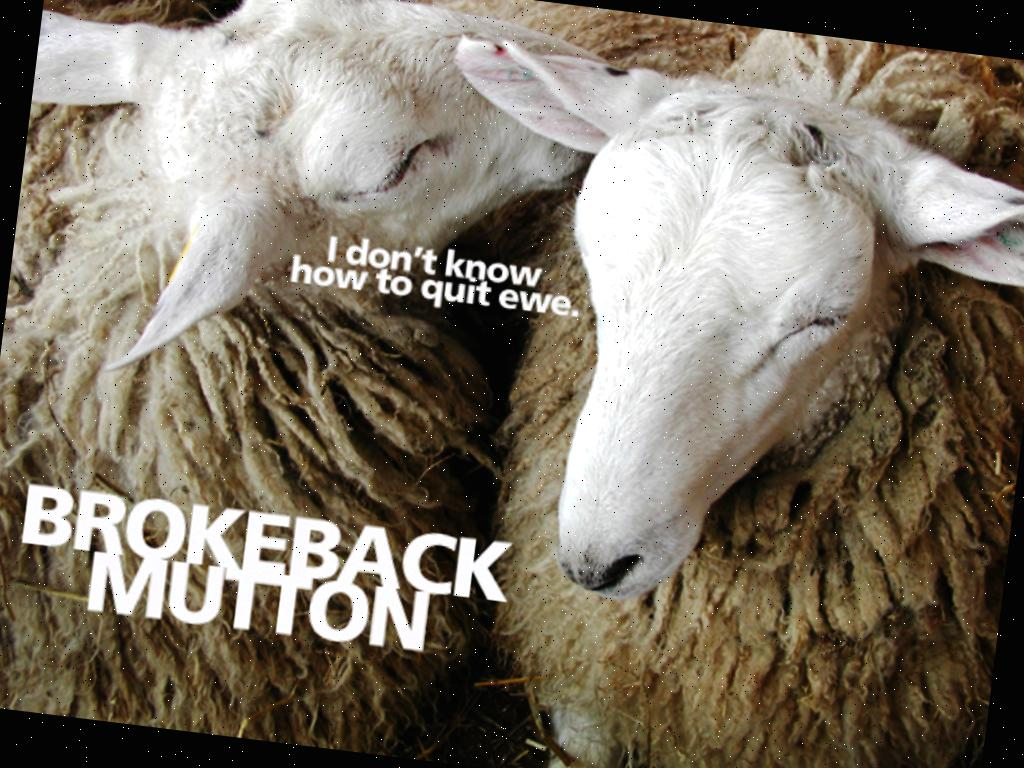Sheep: (367, 0, 1024, 768), (0, 0, 625, 768)
